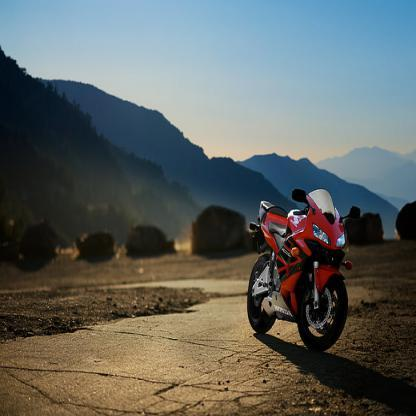Motorcycle: (249, 182, 352, 348)
